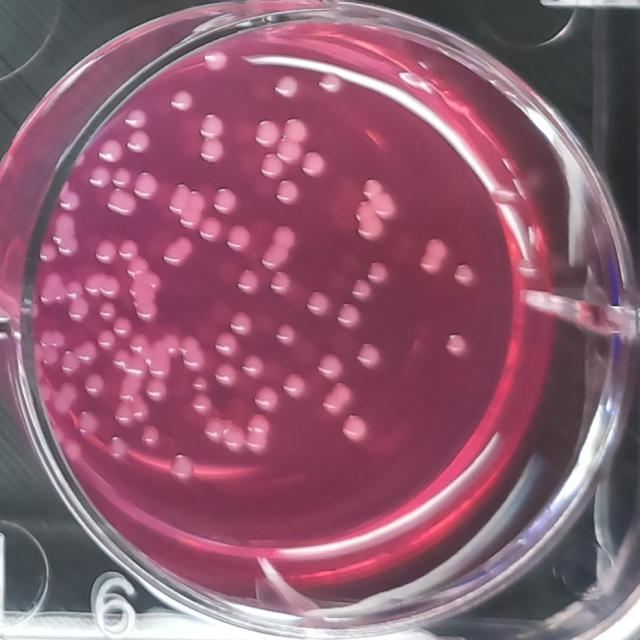Bacillus: (353, 176, 399, 249), (167, 180, 206, 232), (260, 220, 297, 272), (202, 416, 246, 456), (413, 232, 449, 279), (244, 412, 274, 458), (51, 213, 80, 258), (160, 233, 194, 270), (321, 380, 354, 418), (332, 300, 367, 333), (298, 148, 329, 184), (83, 272, 123, 299), (338, 413, 369, 447), (37, 272, 68, 306), (354, 340, 386, 372), (251, 116, 281, 150), (315, 350, 347, 381), (167, 451, 197, 484), (224, 222, 254, 255), (442, 328, 471, 362), (106, 188, 140, 217), (280, 370, 311, 401), (251, 384, 282, 415), (130, 170, 160, 201), (196, 137, 228, 166), (210, 186, 239, 217), (97, 136, 126, 167), (283, 114, 311, 146), (258, 151, 287, 181), (315, 69, 344, 98), (200, 48, 230, 76), (274, 177, 302, 207), (54, 381, 78, 416), (194, 112, 227, 137), (168, 86, 196, 115), (305, 290, 333, 318), (143, 376, 171, 404), (273, 73, 301, 101), (124, 130, 152, 158), (196, 216, 223, 245), (213, 360, 239, 390), (240, 354, 267, 382), (276, 137, 303, 165), (74, 408, 101, 436), (271, 322, 300, 348), (60, 436, 86, 465), (235, 267, 261, 296), (364, 260, 391, 287), (452, 262, 478, 290), (214, 330, 240, 358), (228, 309, 254, 336), (350, 277, 375, 304), (66, 297, 90, 324), (59, 188, 83, 214), (117, 236, 141, 262), (268, 271, 292, 297), (82, 372, 106, 398), (182, 348, 206, 374), (134, 300, 160, 324), (95, 238, 118, 265), (106, 435, 129, 462), (61, 348, 82, 377), (126, 254, 150, 279), (122, 106, 149, 128), (110, 164, 132, 190), (78, 339, 99, 366), (88, 165, 111, 189), (38, 328, 67, 347), (114, 402, 136, 427), (147, 357, 172, 379), (112, 315, 134, 339), (139, 423, 161, 447), (128, 332, 150, 355), (191, 393, 213, 415), (180, 333, 202, 355), (189, 373, 210, 395), (110, 348, 131, 370), (131, 400, 152, 422), (96, 328, 116, 351), (39, 242, 60, 263), (40, 345, 60, 367), (98, 300, 116, 322)
